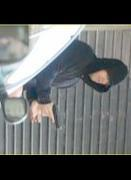gun: (37, 102, 62, 134)
